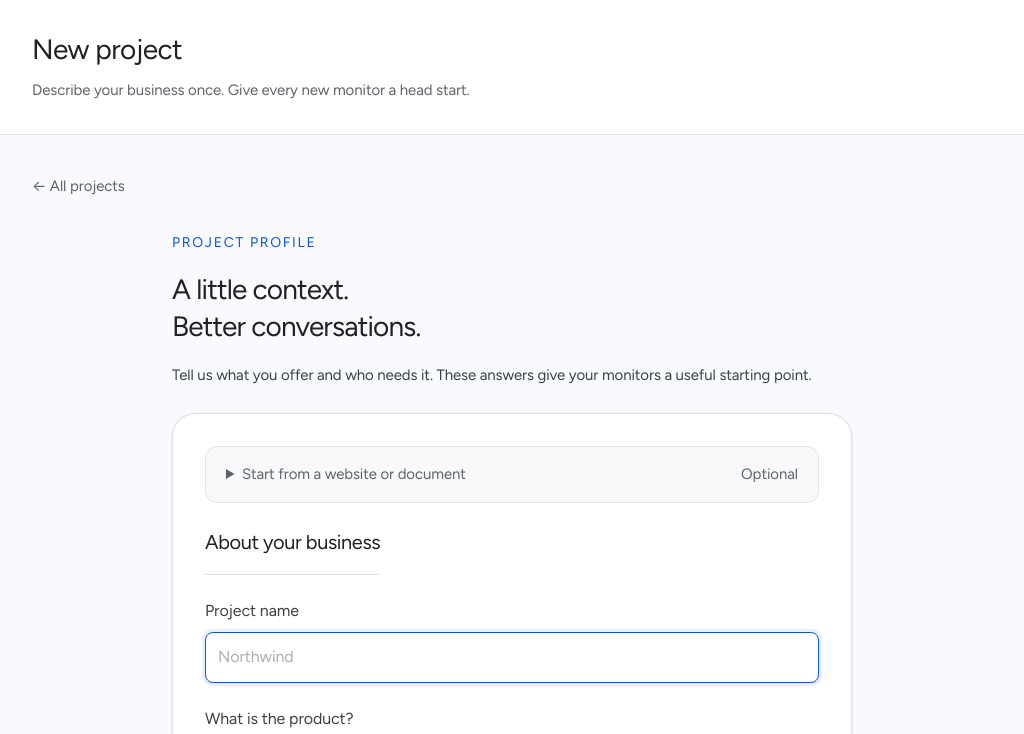
Test case: the project editor › fills the four fields from a page, and saves nothing
The image size is (1024, 734).
Click the heading "Start from a website or document Optional" at [354, 474], box [242,465,798,483]
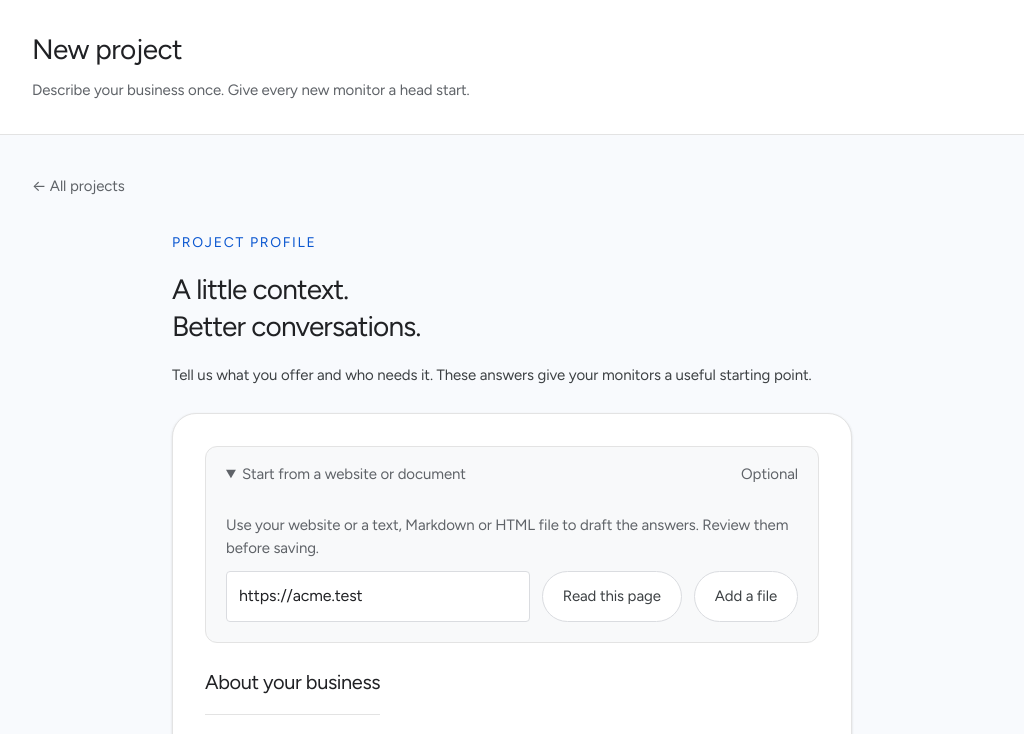
Click the button "Read this page" at [612, 597], box [542,571,682,622]
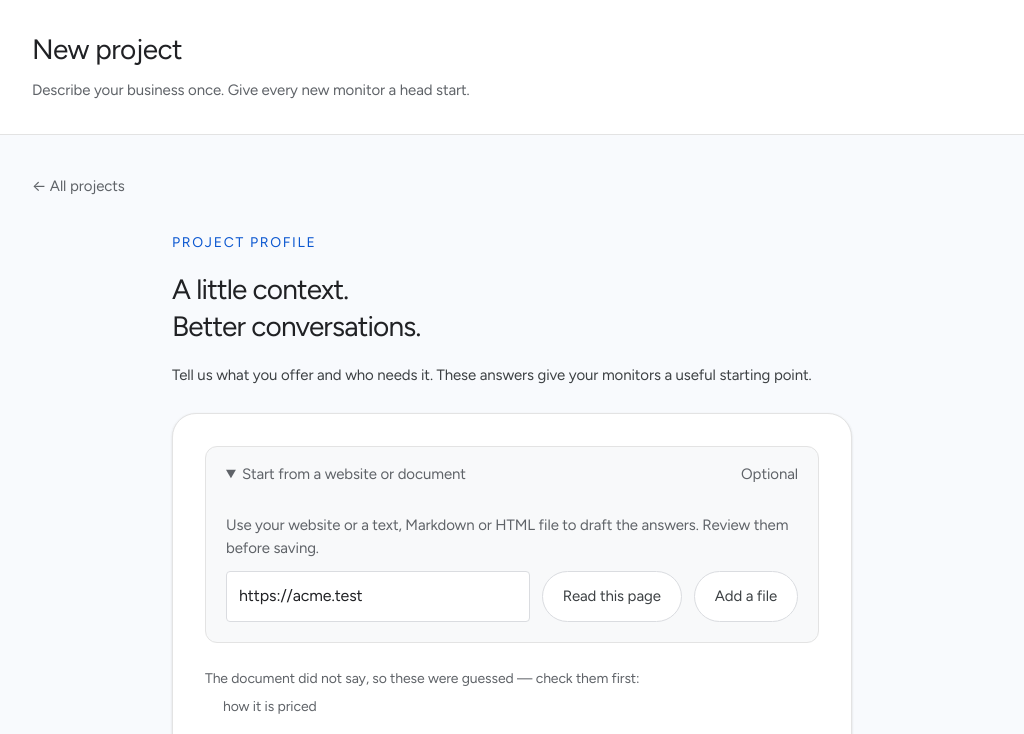
Expected: the text "how it is priced" is shown, [223,698,317,715]
